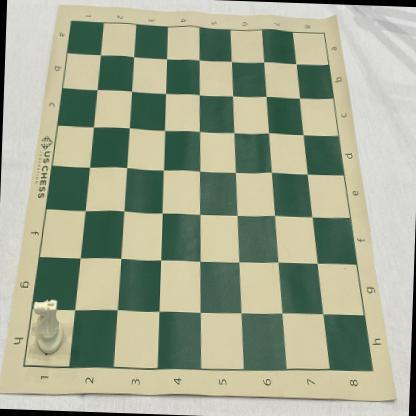knight: (32, 298, 66, 356)
